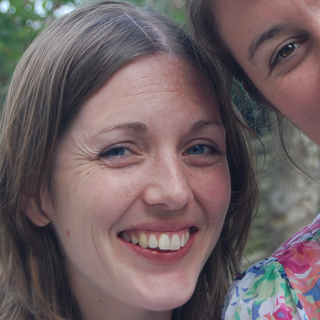eye: (93, 139, 144, 165), (177, 138, 222, 164), (270, 35, 310, 63)
